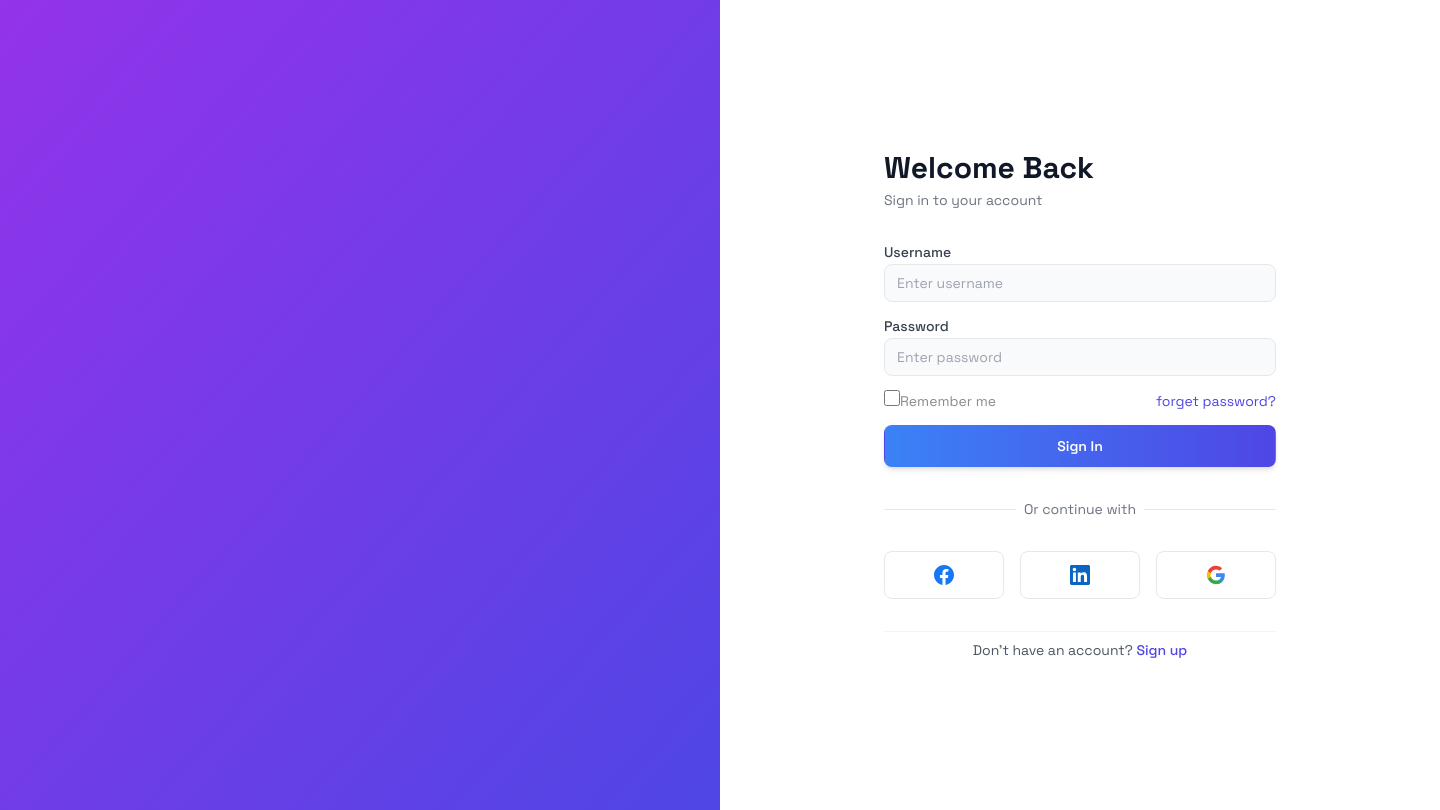
it: LoginPage › disables submit button while loading
Expected: the button "Sign In" is enabled, [884,425,1276,467]
Type "admin" into the field labelled "Username".
click(1080, 283); type("admin")  # box [884,264,1276,302]
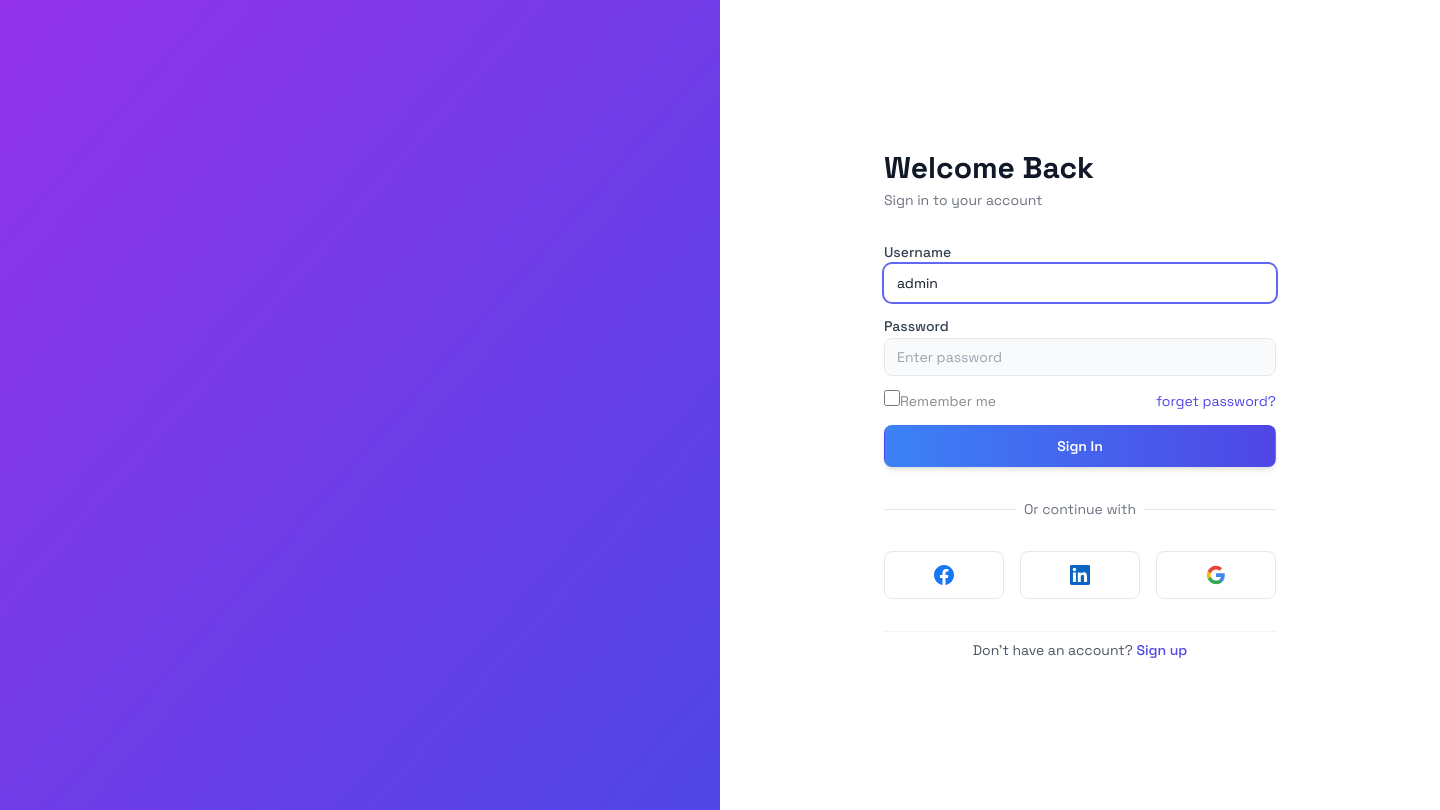
Type "password123" into the password field labelled "Password".
click(1080, 357); type("password123")  # box [884,338,1276,376]
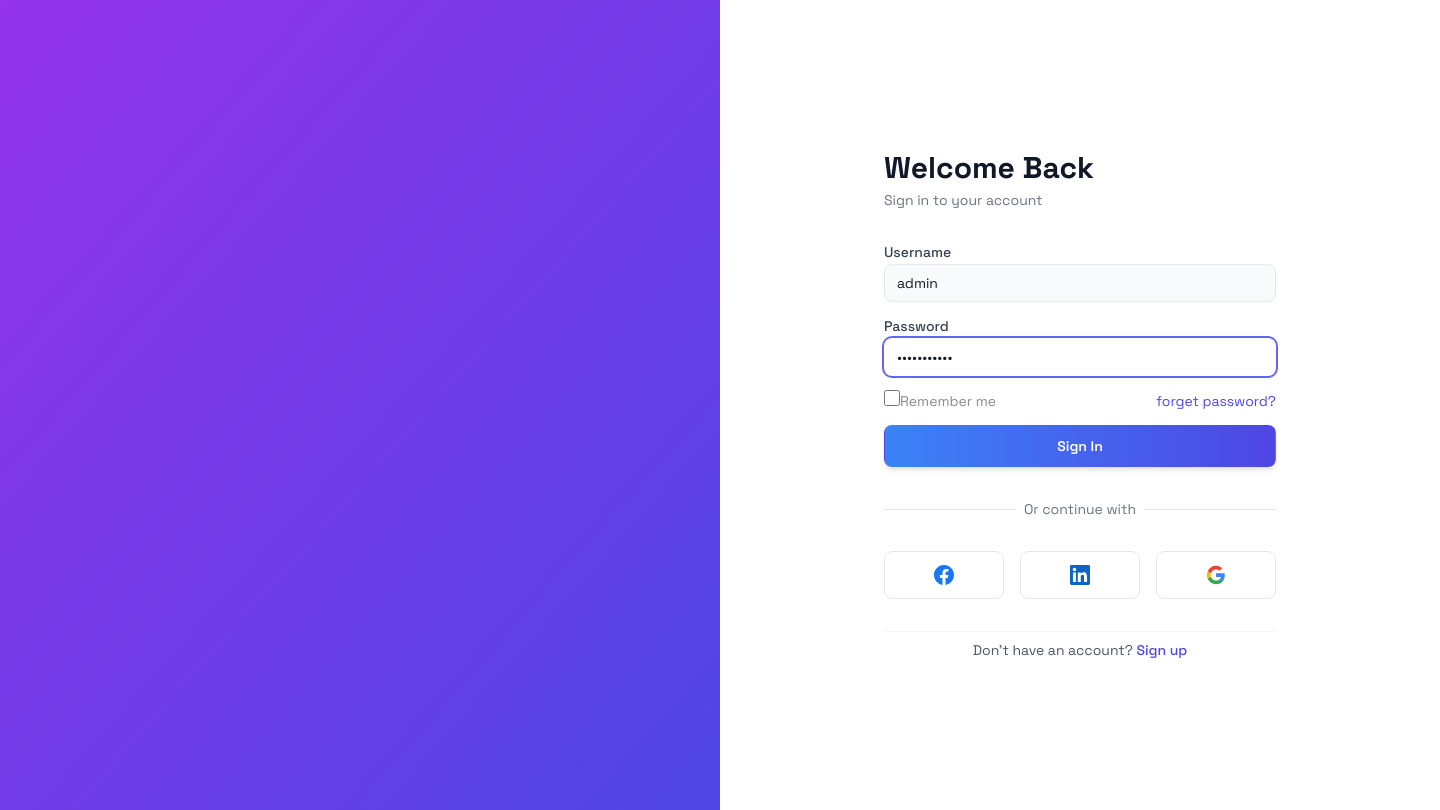
Click the button "Sign In".
click(1080, 446)  # box [884,425,1276,467]
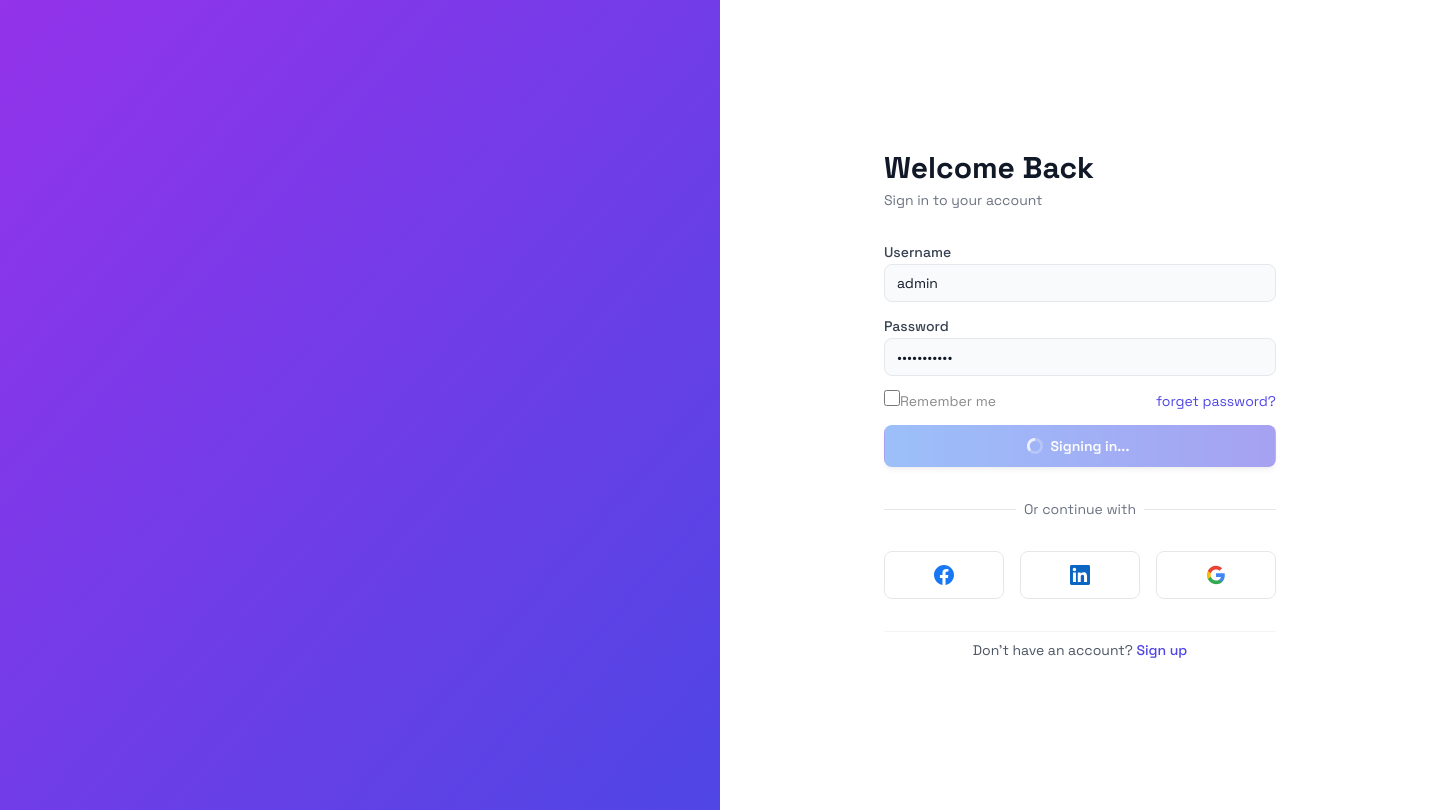
Result: the button named "sign in" is disabled at [884,425,1276,467]
